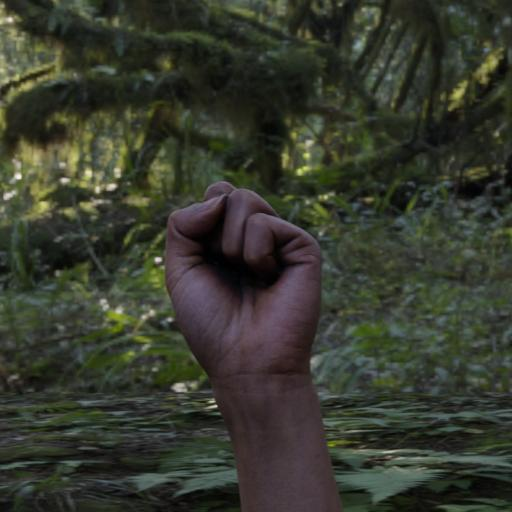S: (156, 176, 359, 398)
